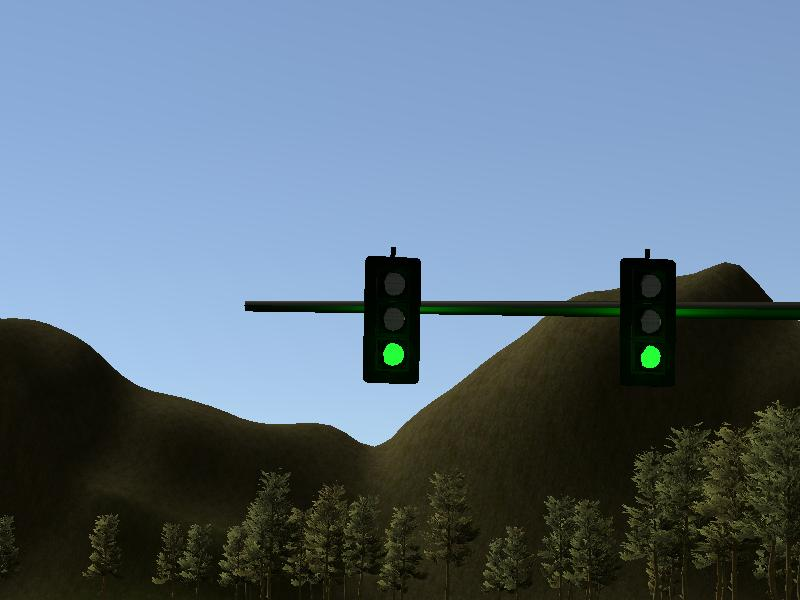Green: (620, 257, 674, 385), (364, 253, 416, 382)
